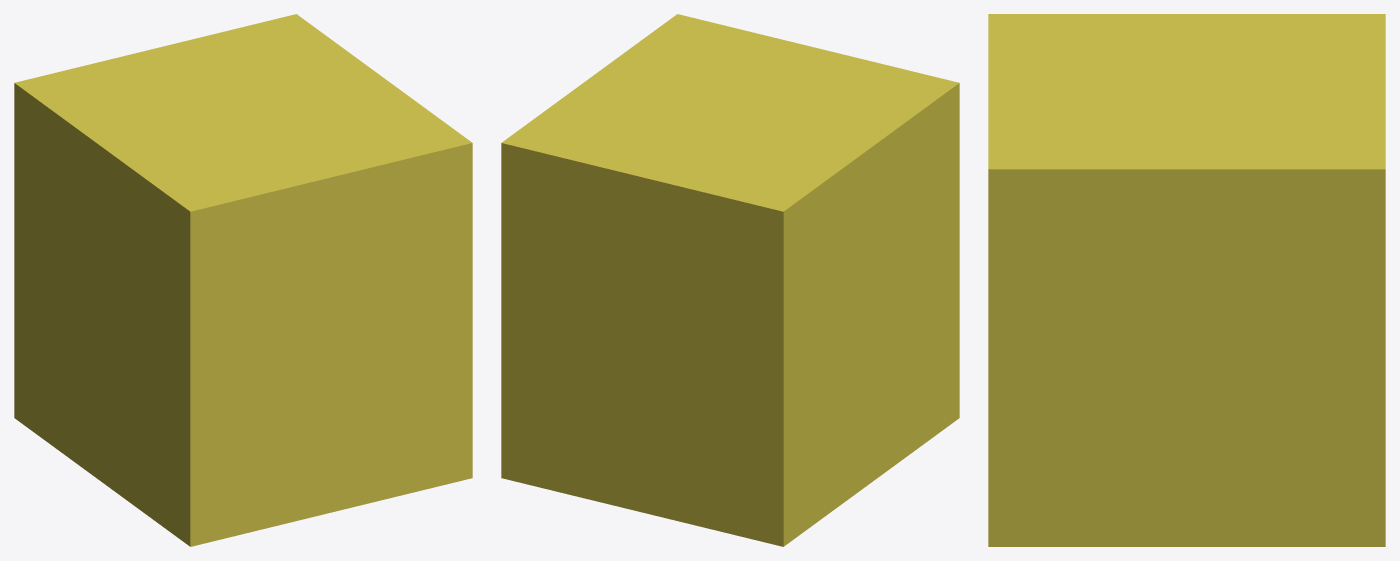
Rendered from caja g.glb.
3 views of the same model, side by side, from view 1: azimuth 30°, elevation 25°; view 2: azimuth 150°, elevation 25°; view 3: azimuth 270°, elevation 25° (orthographic). The views are drawn at different scales.
Visible parts, largest first — view 1: Mesh_Mesh_head_geo.001_lambert2SG.001; view 2: Mesh_Mesh_head_geo.001_lambert2SG.001; view 3: Mesh_Mesh_head_geo.001_lambert2SG.001.
Part boxes in pixels (box(x1,y1,x2,y2)): Mesh_Mesh_head_geo.001_lambert2SG.001: box(14, 14, 472, 546); Mesh_Mesh_head_geo.001_lambert2SG.001: box(501, 14, 959, 546); Mesh_Mesh_head_geo.001_lambert2SG.001: box(988, 14, 1385, 546).
Size of the model in its own units: 37 by 42 by 40.
